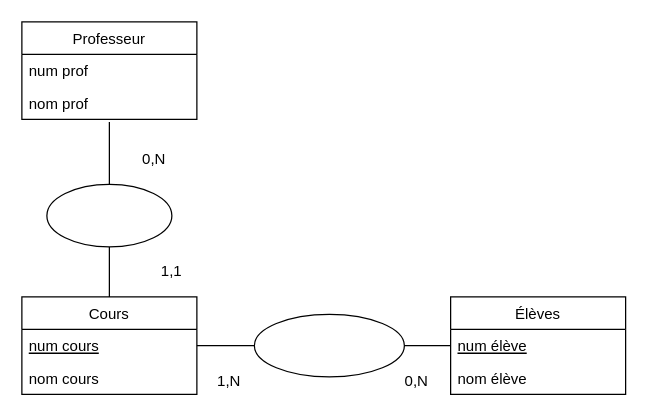
Some shapes in this 648 by 420 pixel diagram are drawn without their labels. The shapes that lost their labels are listed below. From the top down, each one's centre as x and y in pixels, then its label:
At point 109,215: "être professeur".
At point 328,345: "Suivre".
